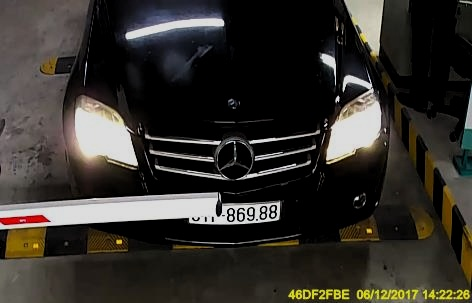plate: (189, 196, 276, 226)
